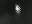person: (16, 6, 23, 16)
